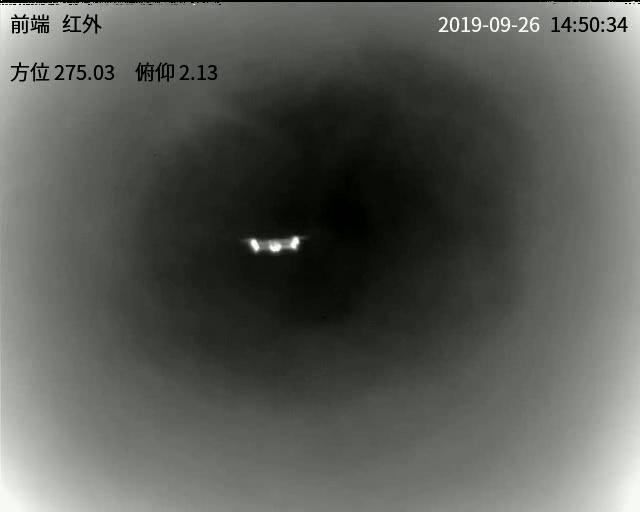DRONE: (249, 234, 299, 252)
